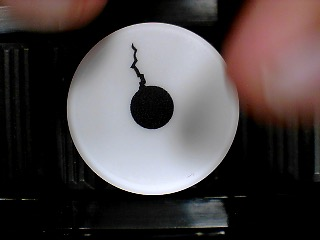CRACK: (67, 22, 240, 196)
